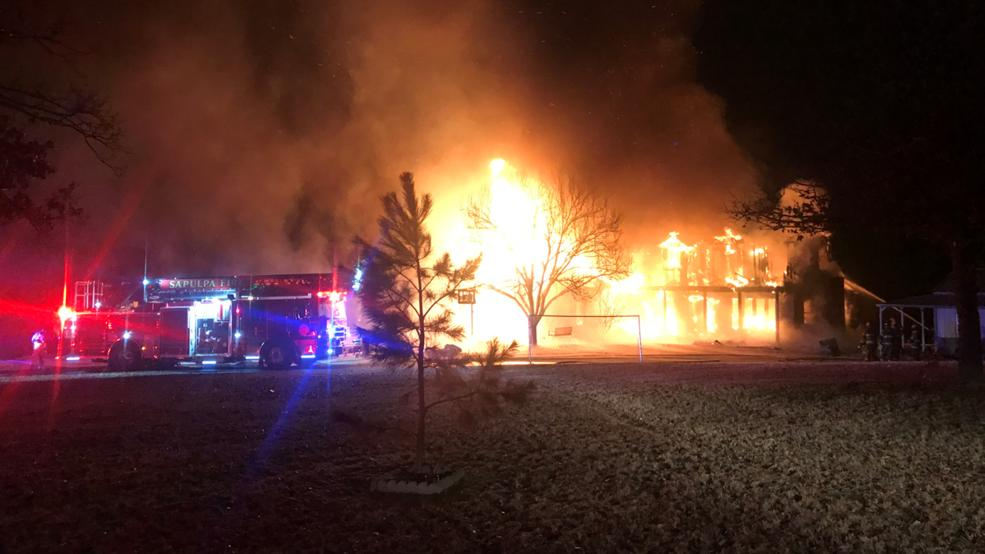fire: (425, 166, 640, 363), (642, 220, 776, 346)
smoke: (121, 0, 380, 271), (382, 0, 562, 164), (582, 11, 753, 164), (779, 177, 850, 354), (640, 166, 778, 219)
